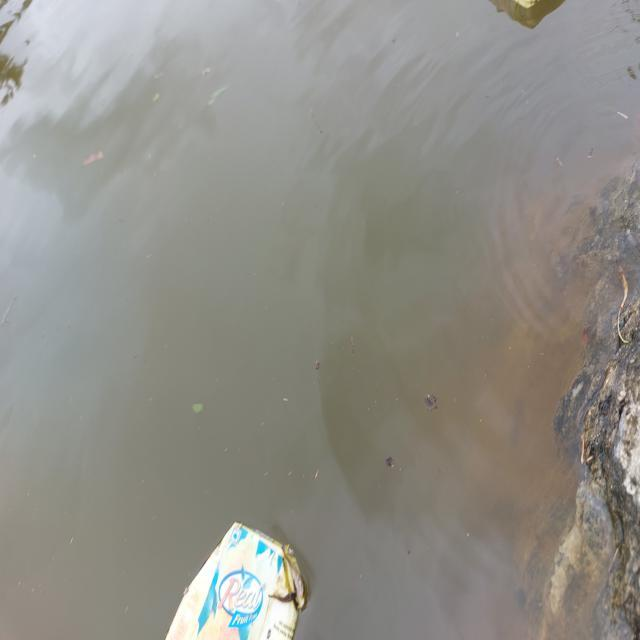paper: (169, 519, 323, 640)
